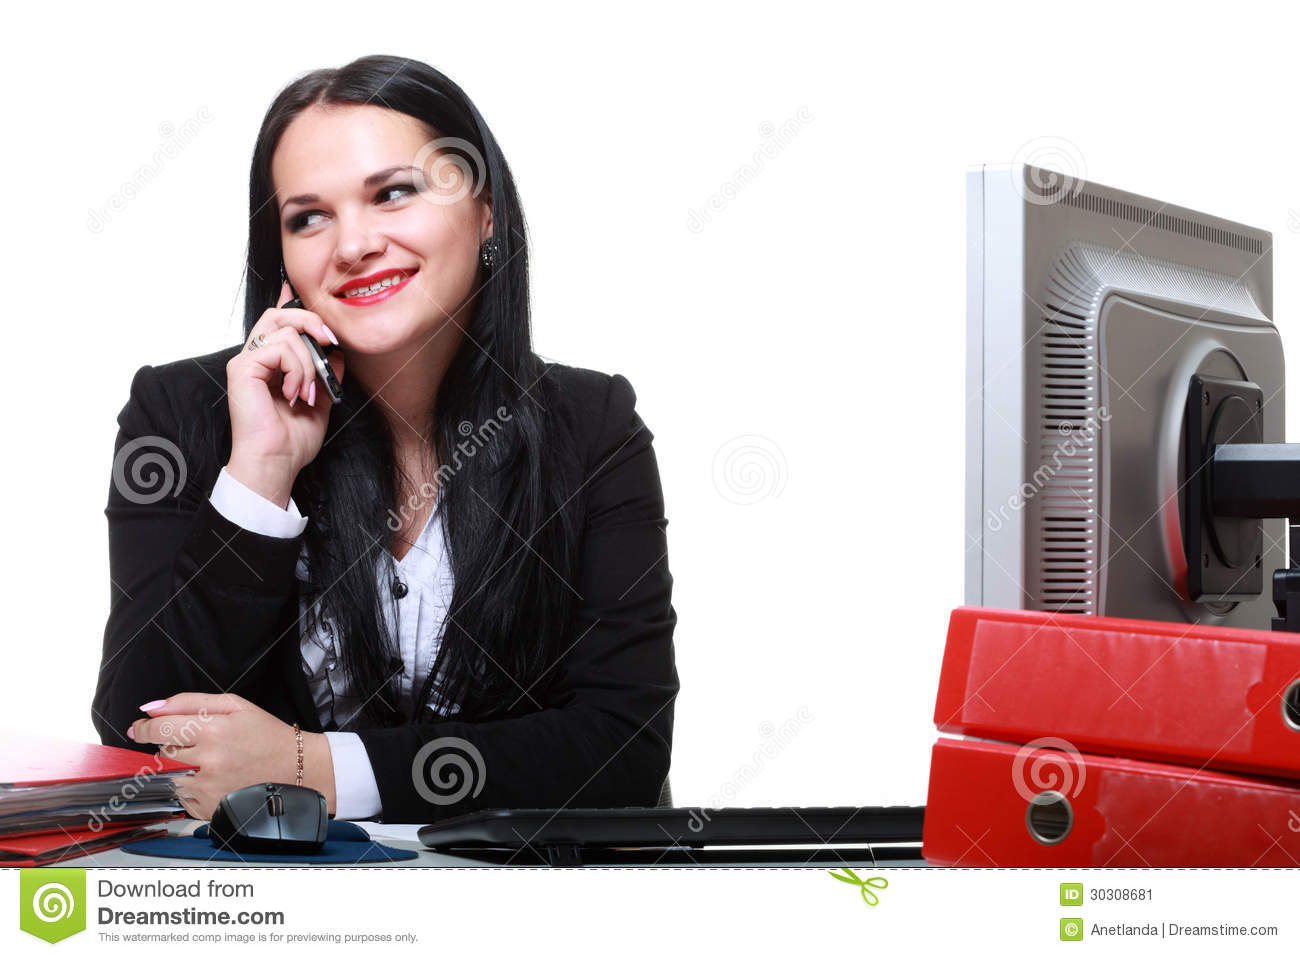phone: (262, 262, 349, 408)
talk: (224, 161, 449, 469)
